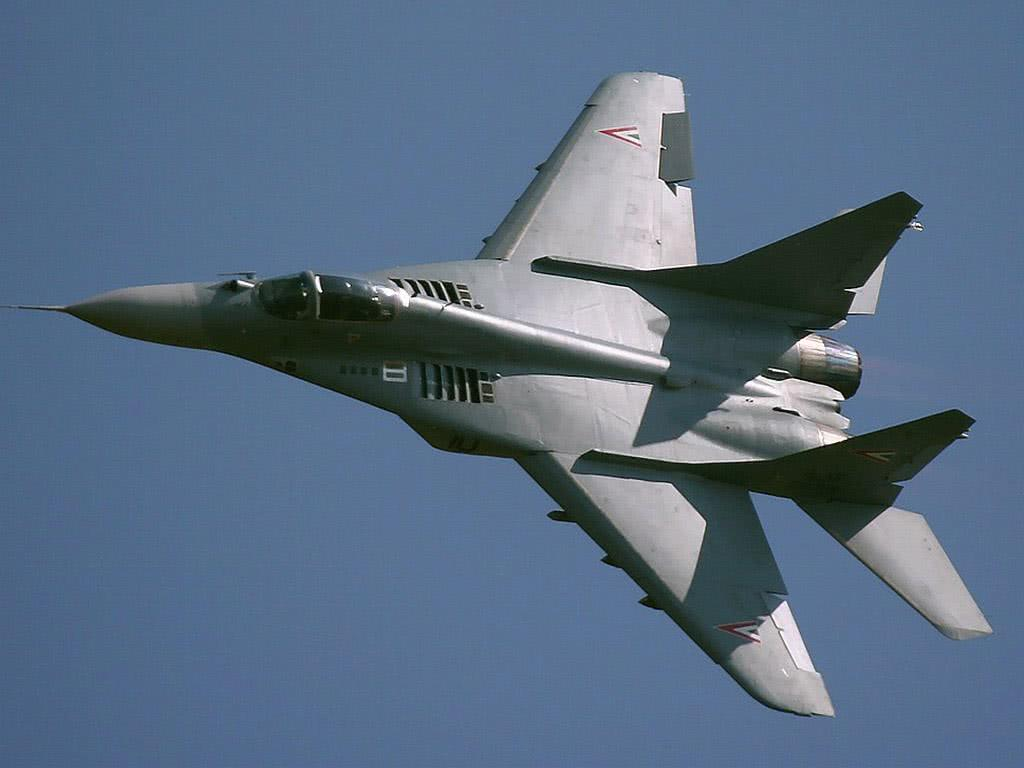airplane: (47, 69, 1010, 722)
